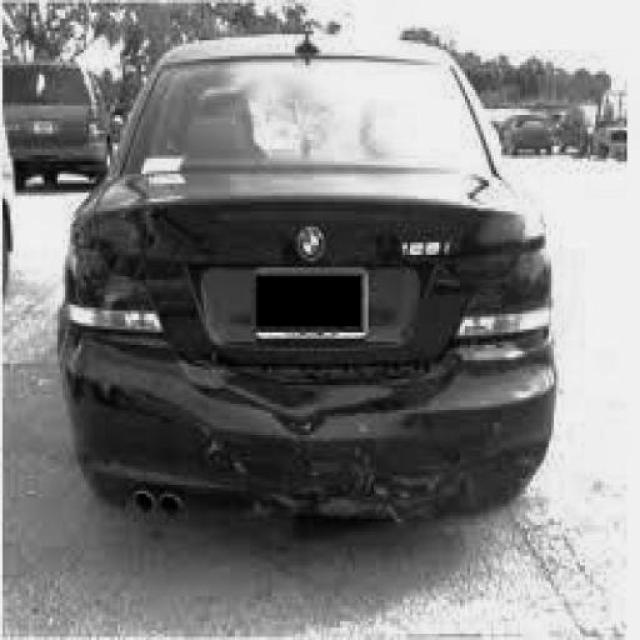car damage: (201, 424, 539, 518), (187, 361, 342, 438)
